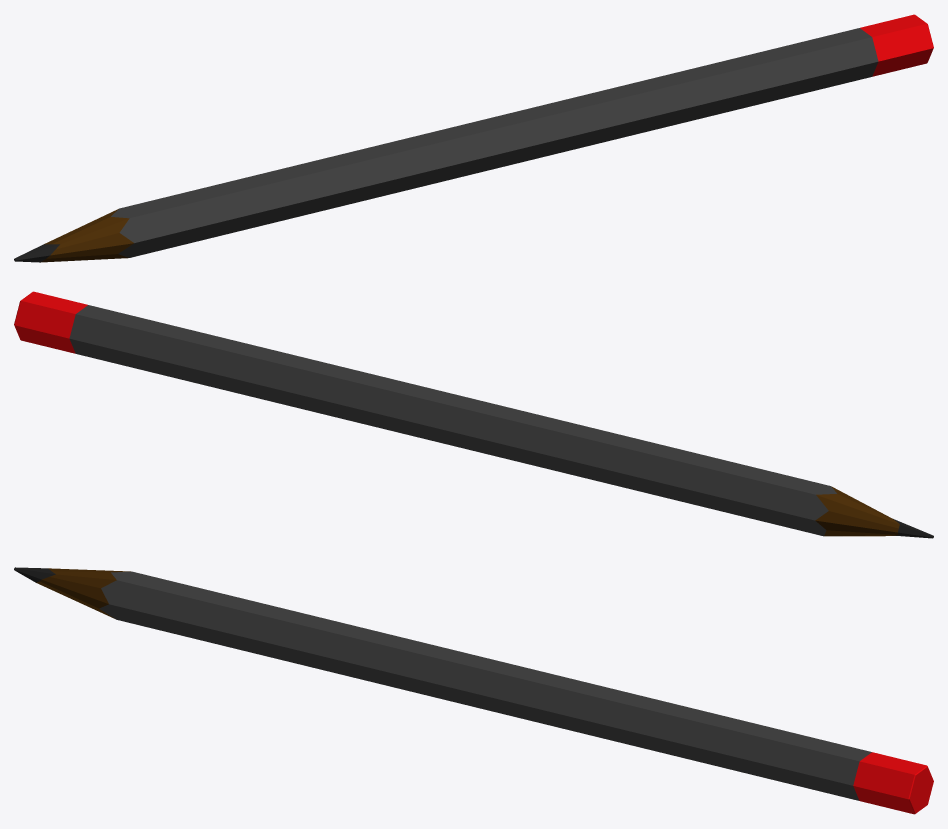
3 views of the same model, one above another, from view 1: azimuth 30°, elevation 25°; view 2: azimuth 150°, elevation 25°; view 3: azimuth 330°, elevation 25° (orthographic).
Parts seen in each view (by area): view 1: Pencil; view 2: Pencil; view 3: Pencil.
Part boxes in pixels (bbox=[...]): Pencil: bbox=[14, 14, 933, 262]; Pencil: bbox=[14, 291, 933, 538]; Pencil: bbox=[14, 567, 933, 814].
Bounding box in the file's own units: 1996 × 83.47 × 96.39.
